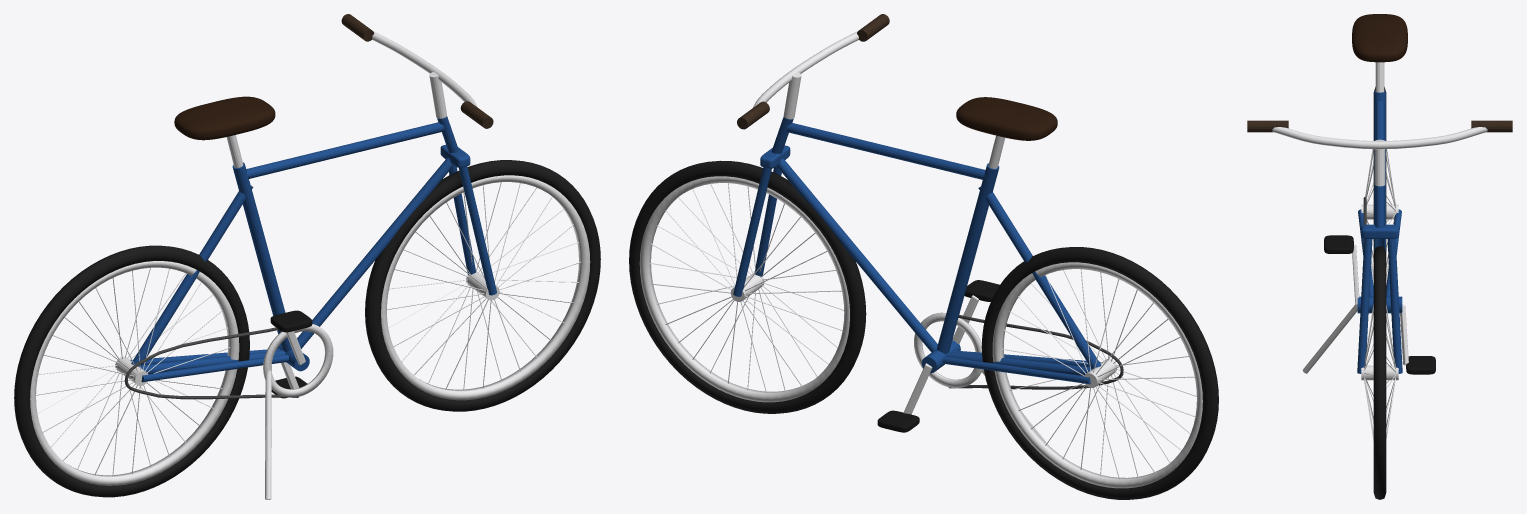
The model's file is city-blue.glb.
The picture shows the model from 3 angles, left to right: view 1: azimuth 30°, elevation 25°; view 2: azimuth 150°, elevation 25°; view 3: azimuth 270°, elevation 25°; orthographic projection. The views are drawn at different scales.
Visible parts, largest first — view 1: chrome, tyre, paint_primary_frame, saddle_leather, chain_dark, grip_rubber, pedal; view 2: chrome, tyre, paint_primary_frame, saddle_leather, pedal, chain_dark, grip_rubber; view 3: chrome, paint_primary_frame, tyre, saddle_leather, pedal, grip_rubber.
Boxes of the visible parts, box(x1,y1,x2,y2) form: chrome: box(30, 31, 590, 499); tyre: box(14, 160, 600, 497); paint_primary_frame: box(130, 116, 496, 382); saddle_leather: box(174, 96, 275, 140); chain_dark: box(124, 327, 298, 399); grip_rubber: box(341, 14, 493, 128); pedal: box(270, 310, 312, 398); chrome: box(639, 31, 1202, 488); tyre: box(629, 160, 1218, 499); paint_primary_frame: box(733, 117, 1101, 384); saddle_leather: box(956, 97, 1057, 140); pedal: box(877, 280, 999, 432); chain_dark: box(948, 315, 1123, 389); grip_rubber: box(737, 14, 889, 129); chrome: box(1272, 62, 1487, 440); paint_primary_frame: box(1357, 91, 1402, 373); tyre: box(1373, 87, 1386, 499); saddle_leather: box(1352, 14, 1407, 62); pedal: box(1324, 235, 1435, 374); grip_rubber: box(1247, 120, 1512, 132).
Bounding box in the file's own units: 1.7 × 1.01 × 0.71.
Materials: 7 (4 with a texture image).
